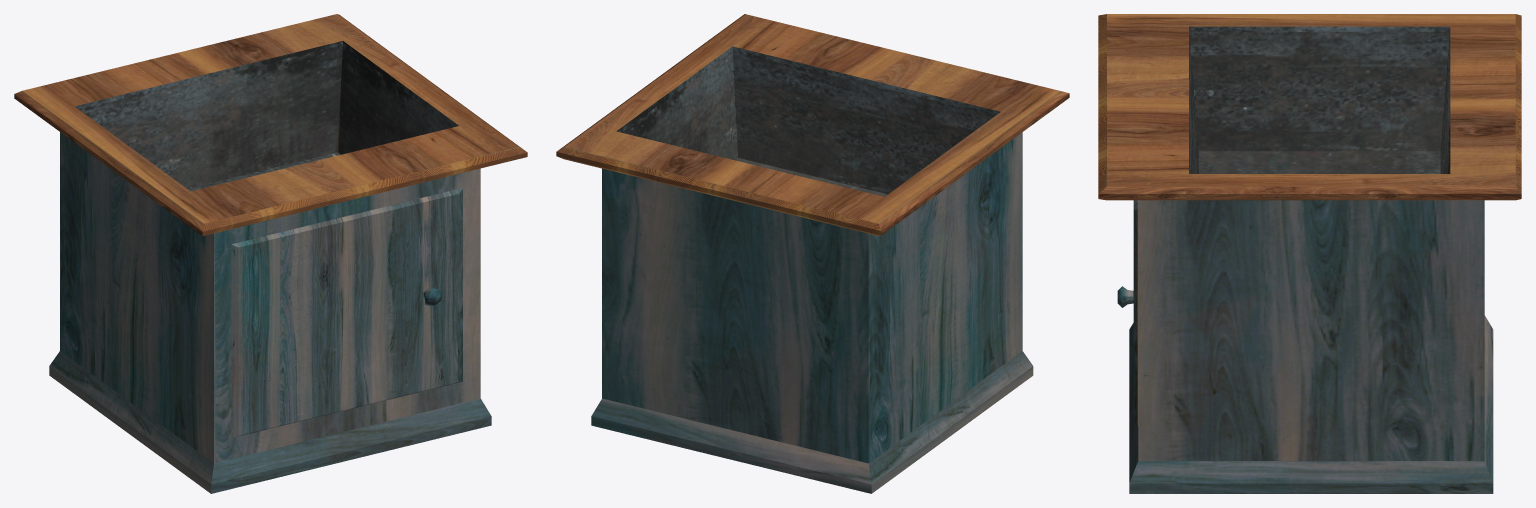
The model's file is Gootsteen.fbx.
3 renders of one model, left to right at view 1: azimuth 30°, elevation 25°; view 2: azimuth 150°, elevation 25°; view 3: azimuth 270°, elevation 25°, orthographic. The views are drawn at different scales.
Parts seen in each view (by area): view 1: gootsteen, deurtje; view 2: gootsteen; view 3: gootsteen, deurtje.
Part boxes in pixels (x1=…): gootsteen: x1=14, y1=14, x2=527, y2=493; deurtje: x1=231, y1=188, x2=462, y2=437; gootsteen: x1=556, y1=14, x2=1069, y2=493; gootsteen: x1=1098, y1=14, x2=1521, y2=493; deurtje: x1=1117, y1=200, x2=1138, y2=426.
Bounding box in the file's own units: 4.55 × 3.76 × 4.56.
1 material, 1 textured.
